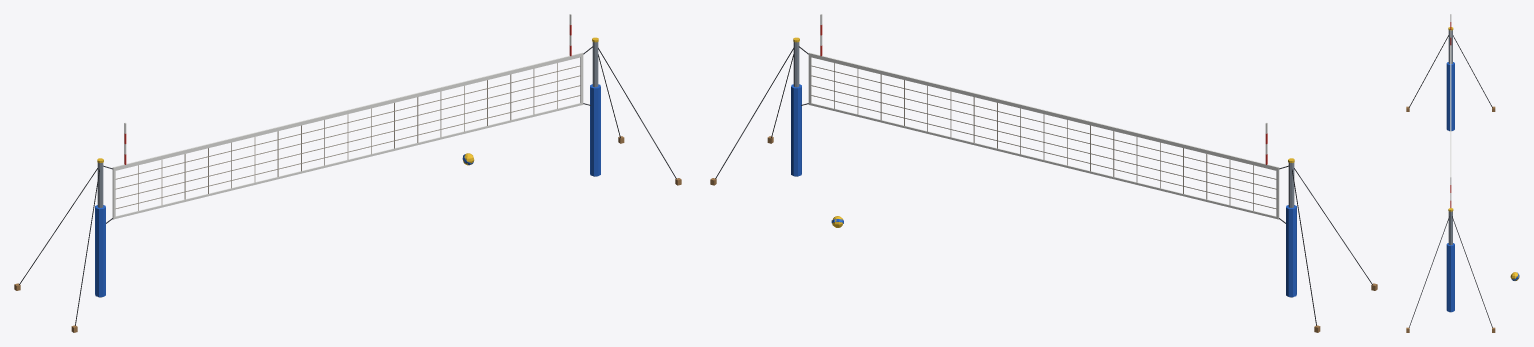
The model's file is volleyball_net.glb.
3 renders of one model, left to right at view 1: azimuth 30°, elevation 25°; view 2: azimuth 150°, elevation 25°; view 3: azimuth 270°, elevation 25°, orthographic. The views are drawn at different scales.
Parts seen in each view (by area): view 1: Net; view 2: Net; view 3: Net.
Part boxes in pixels (x1,y1,x2,y2): Net: (14,14,681,332); Net: (710,14,1377,332); Net: (1406,14,1519,332).
Bounding box in the file's own units: 12.28 × 3.25 × 2.65.
